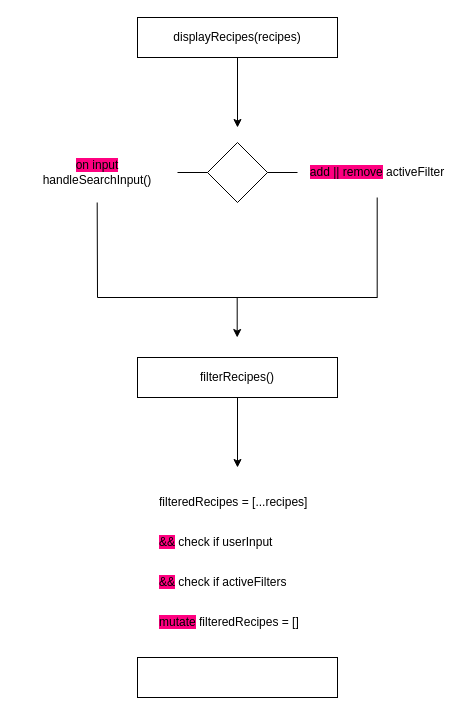
Some shapes in this 474 by 715 pixel diagram are drawn without their labels. Here are the shapes that lost their labels. From the top down, the centre of each, then its label:
the point at 237,172: if
the point at 237,677: displayRecipes(filteredRecipes)
